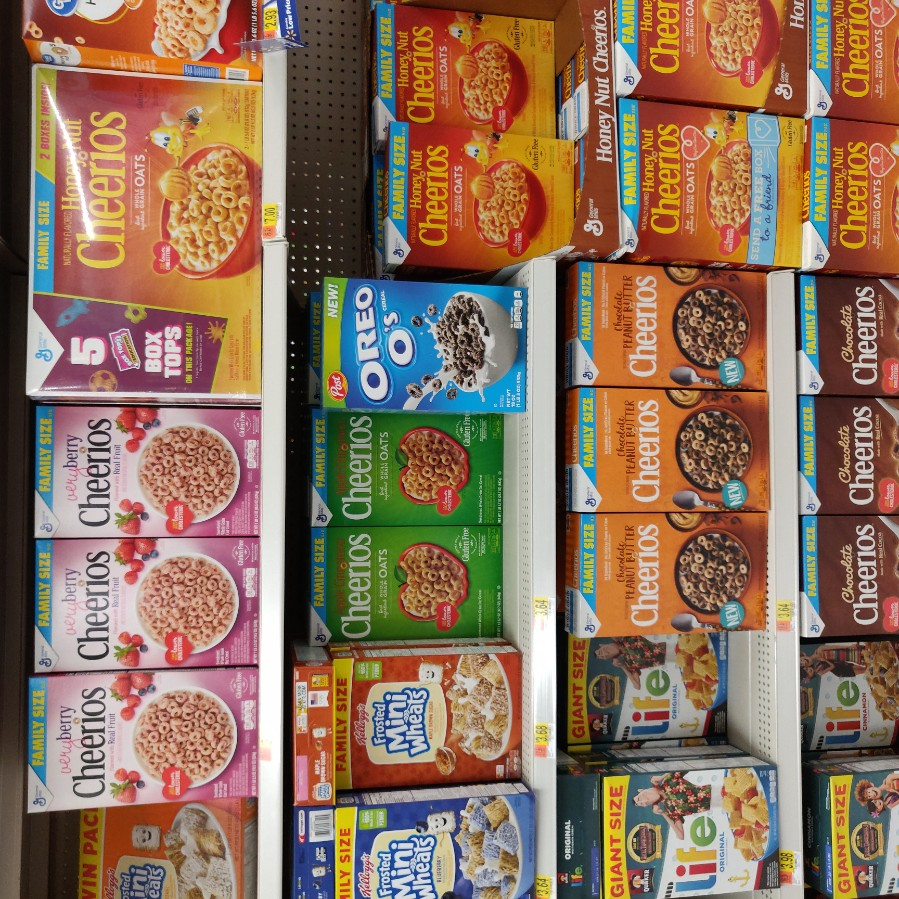Oreo-563424384: (318, 276, 527, 415)
